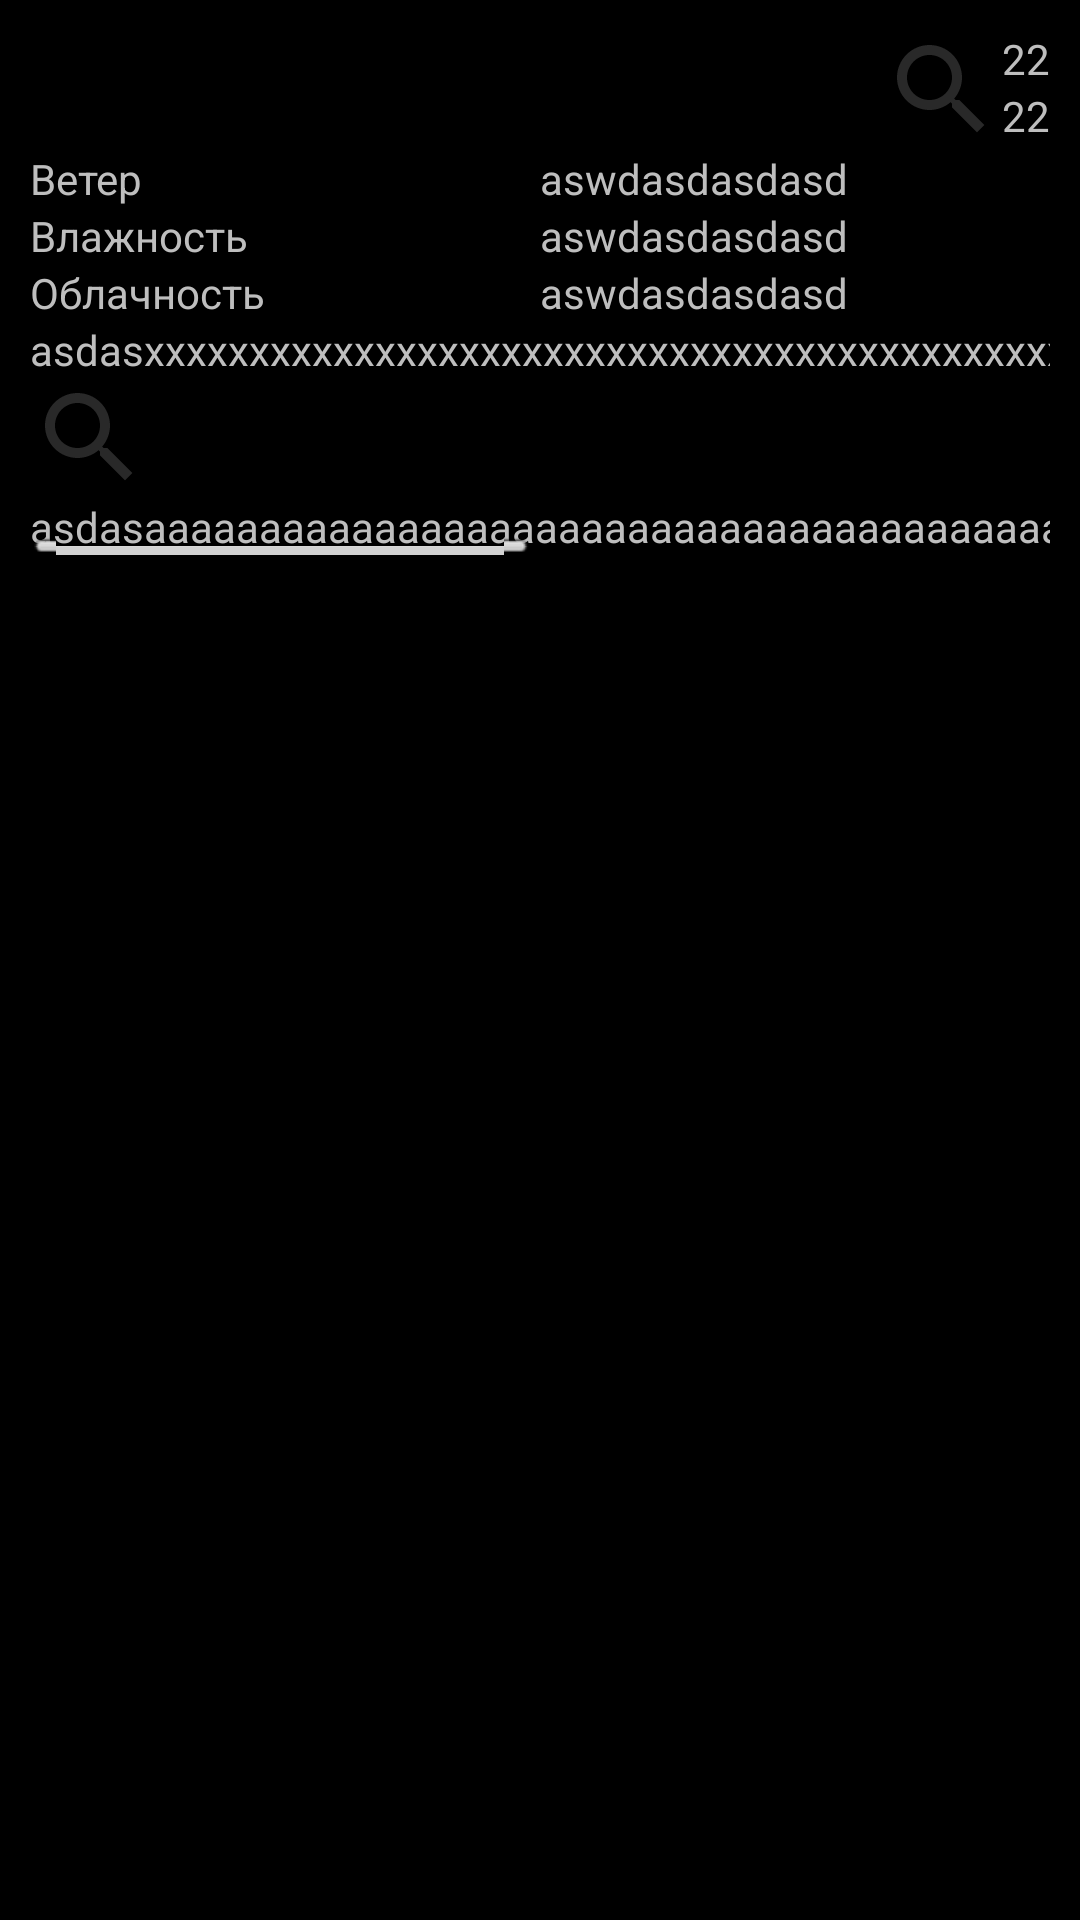

Screen size 1080×1920. Icon name, then its center in pixels as [x,y]:
search: [940,88], [88,436]
